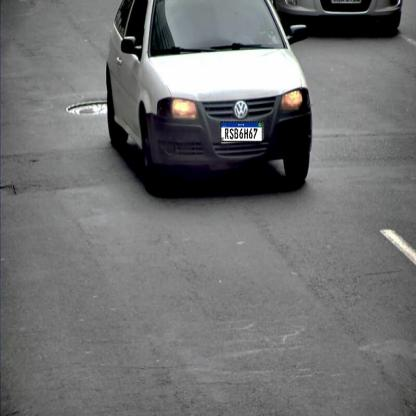PlacaM: (220, 121, 262, 142)
